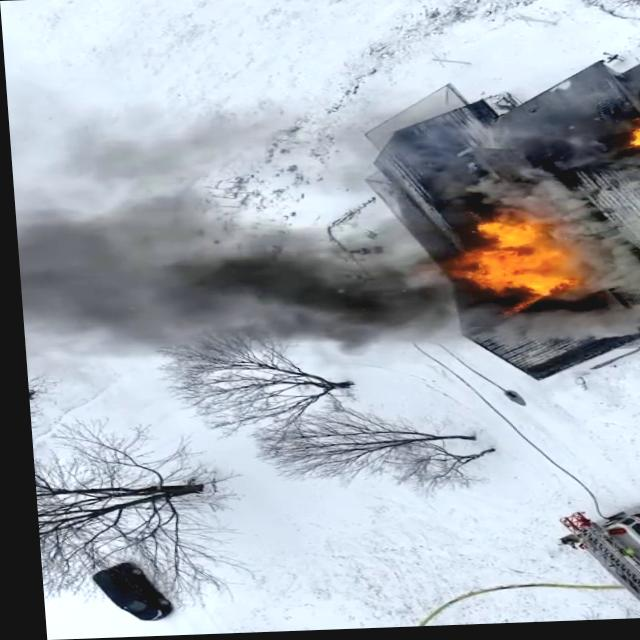fire: (460, 221, 583, 304), (619, 131, 640, 163)
smoke: (14, 236, 408, 343)
